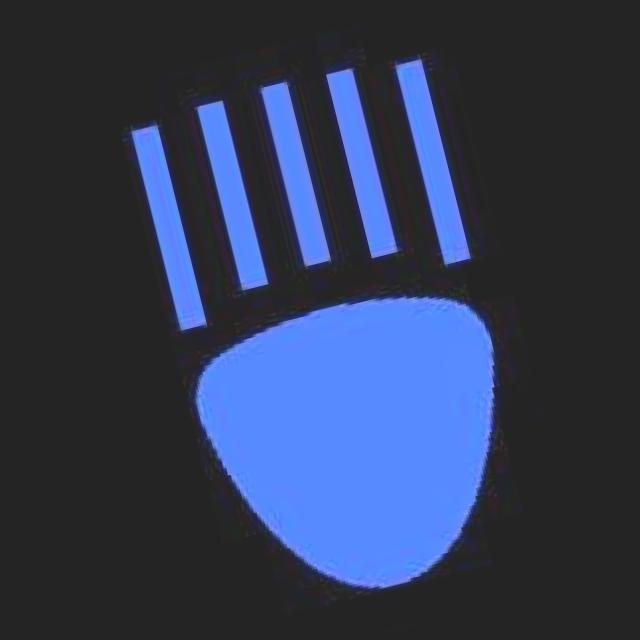kontrolka: (75, 4, 585, 640)
